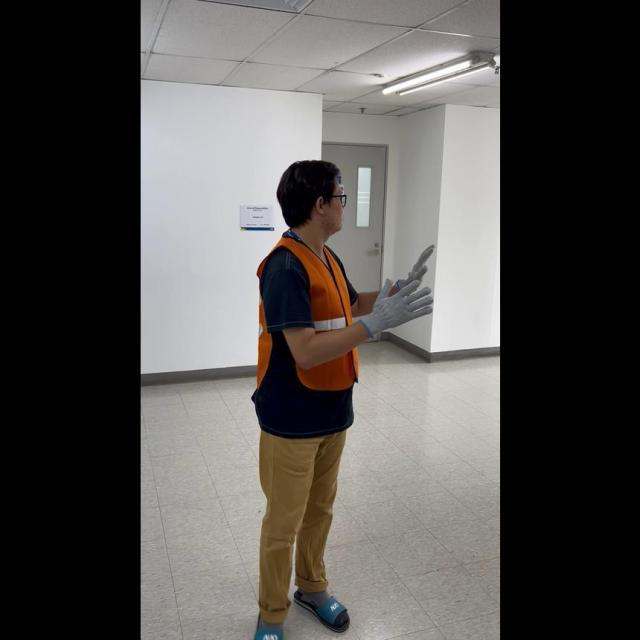gloved_hand: (359, 274, 433, 338), (394, 238, 434, 295)
